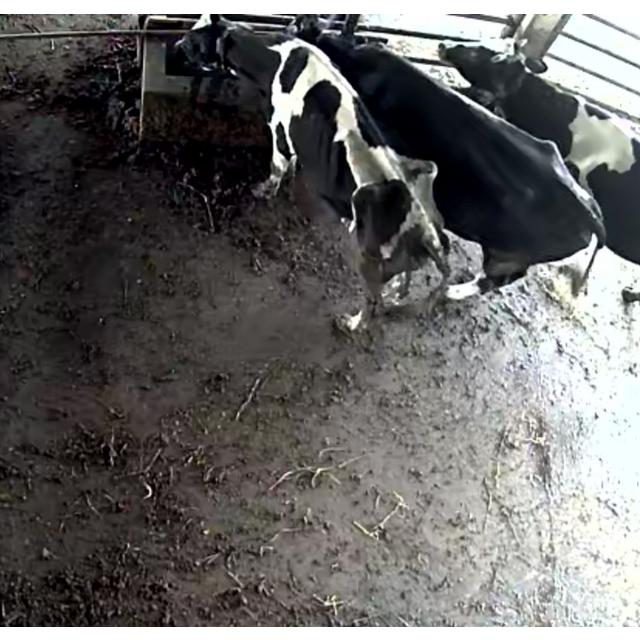drink: (169, 15, 303, 101), (286, 14, 408, 90)
